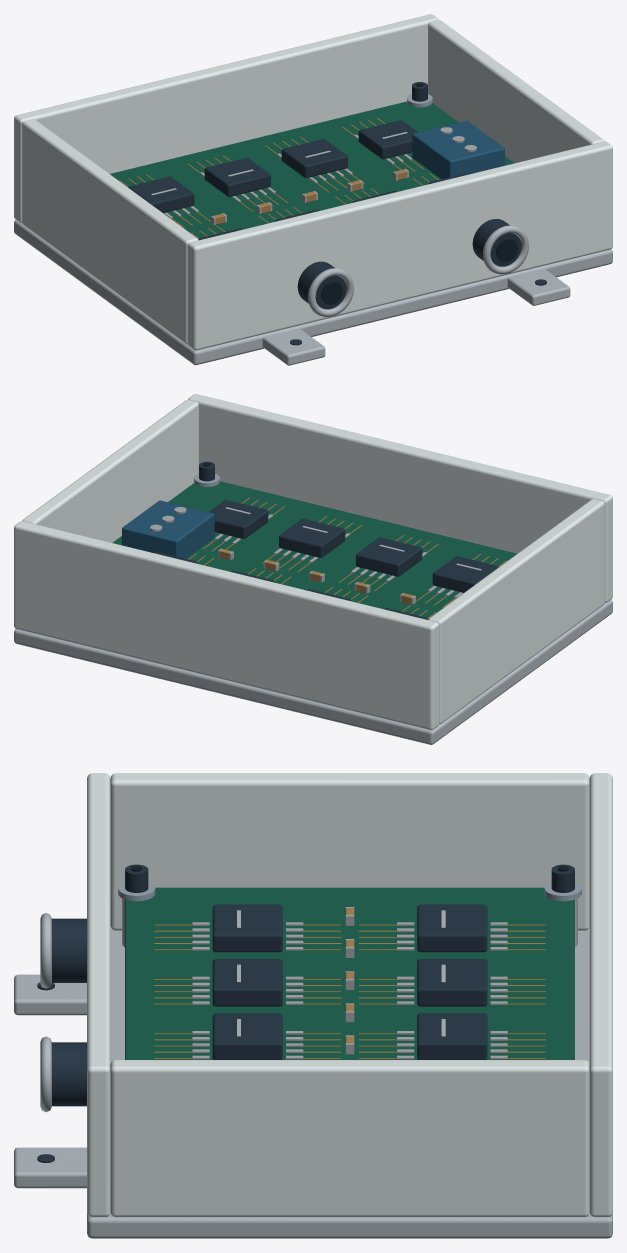
The model's file is control-box.glb.
3 views of the same model, one above another, from view 1: azimuth 30°, elevation 25°; view 2: azimuth 150°, elevation 25°; view 3: azimuth 270°, elevation 25° (orthographic). The views are drawn at different scales.
Visible parts, largest first — view 1: HousingWallZ0.086, HousingWallZ-0.086, HousingWallX-0.116, FR4Board, HousingWallX0.116, HousingBase, TerminalBody, IC_0_2, IC_0_1, IC_0_3, MountLug-0.07, MountLug0.07 (+5 smaller); view 2: HousingWallZ-0.086, HousingWallZ0.086, HousingWallX-0.116, FR4Board, HousingWallX0.116, HousingBase, TerminalBody, IC_1_1, IC_1_2, IC_1_3, IC_1_0; view 3: HousingWallX0.116, HousingWallX-0.116, FR4Board, HousingBase, HousingWallZ-0.086, HousingWallZ0.086, IC_0_0, IC_1_0, IC_0_1, IC_1_1, IC_0_2, IC_1_2 (+6 smaller).
Boxes of the visible parts, box(x1,y1,x2,y2) form: HousingWallZ0.086: box(187, 141, 612, 350); HousingWallZ-0.086: box(14, 14, 438, 223); HousingWallX-0.116: box(22, 119, 198, 344); FR4Board: box(110, 101, 514, 239); HousingWallX0.116: box(428, 20, 604, 162); HousingBase: box(14, 220, 612, 365); TerminalBody: box(412, 120, 504, 178); IC_0_2: box(281, 139, 347, 177); IC_0_1: box(204, 157, 270, 196); IC_0_3: box(358, 120, 417, 159); MountLug-0.07: box(262, 328, 325, 365); MountLug0.07: box(507, 269, 570, 305); HousingWallZ-0.086: box(14, 521, 439, 730); HousingWallZ0.086: box(188, 394, 612, 602); HousingWallX-0.116: box(428, 499, 604, 724); FR4Board: box(112, 481, 516, 618); HousingWallX0.116: box(22, 400, 198, 542); HousingBase: box(14, 600, 612, 744); TerminalBody: box(122, 500, 214, 558); IC_1_1: box(356, 537, 422, 576); IC_1_2: box(279, 518, 345, 557); IC_1_3: box(209, 500, 268, 538); IC_1_0: box(432, 556, 498, 592); HousingWallX0.116: box(110, 1060, 589, 1217); HousingWallX-0.116: box(110, 773, 589, 930); FR4Board: box(125, 887, 574, 1059); HousingBase: box(87, 926, 612, 1238); HousingWallZ-0.086: box(589, 773, 612, 1217); HousingWallZ0.086: box(87, 773, 110, 1217); IC_0_0: box(417, 904, 487, 952); IC_1_0: box(212, 904, 282, 952); IC_0_1: box(417, 959, 487, 1006); IC_1_1: box(212, 959, 282, 1006); IC_0_2: box(417, 1013, 487, 1059); IC_1_2: box(212, 1013, 282, 1059).
Bounding box in the file's own units: 0.24 × 0.065 × 0.205.
10 materials, 5 textured.
